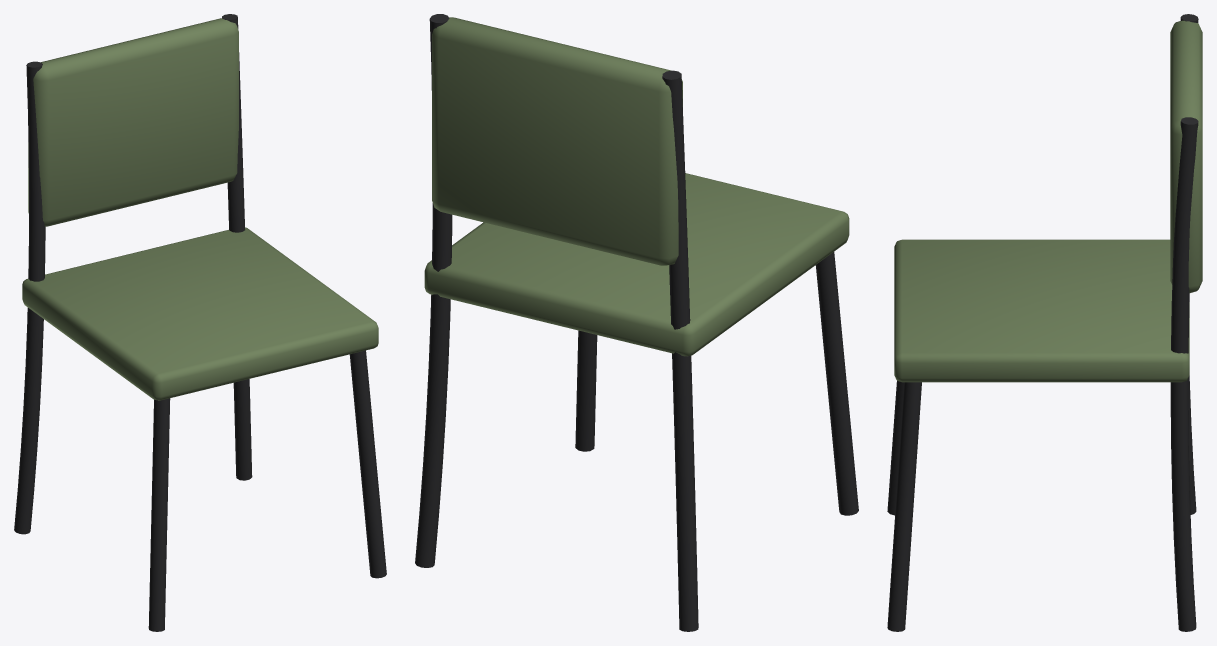
File: i_chair_2.glb
3 views of the same model, side by side, from view 1: azimuth 30°, elevation 25°; view 2: azimuth 150°, elevation 25°; view 3: azimuth 270°, elevation 25° (orthographic). The views are drawn at different scales.
Visible parts, largest first — view 1: o.004, o.005, o.001, o.002, o, o.003; view 2: o.005, o.004, o.001, o.003, o, o.002; view 3: o.004, o.003, o.005, o.002, o, o.001.
Part boxes in pixels (x1,y1,x2,y2): o.004: [22, 227, 378, 400]; o.005: [28, 18, 238, 226]; o.001: [14, 61, 45, 534]; o.002: [349, 350, 386, 578]; o: [148, 398, 170, 631]; o.003: [222, 14, 252, 480]; o.005: [432, 17, 682, 265]; o.004: [424, 173, 849, 356]; o.001: [662, 70, 698, 631]; o.003: [415, 14, 452, 567]; o: [815, 252, 858, 515]; o.002: [575, 330, 597, 451]; o.004: [894, 239, 1189, 382]; o.003: [1170, 117, 1198, 631]; o.005: [1170, 20, 1202, 293]; o.002: [887, 382, 921, 631]; o: [887, 381, 904, 515]; o.001: [1180, 14, 1198, 514].
Size of the model in its own units: 0.4597 by 0.8621 by 0.4906.
